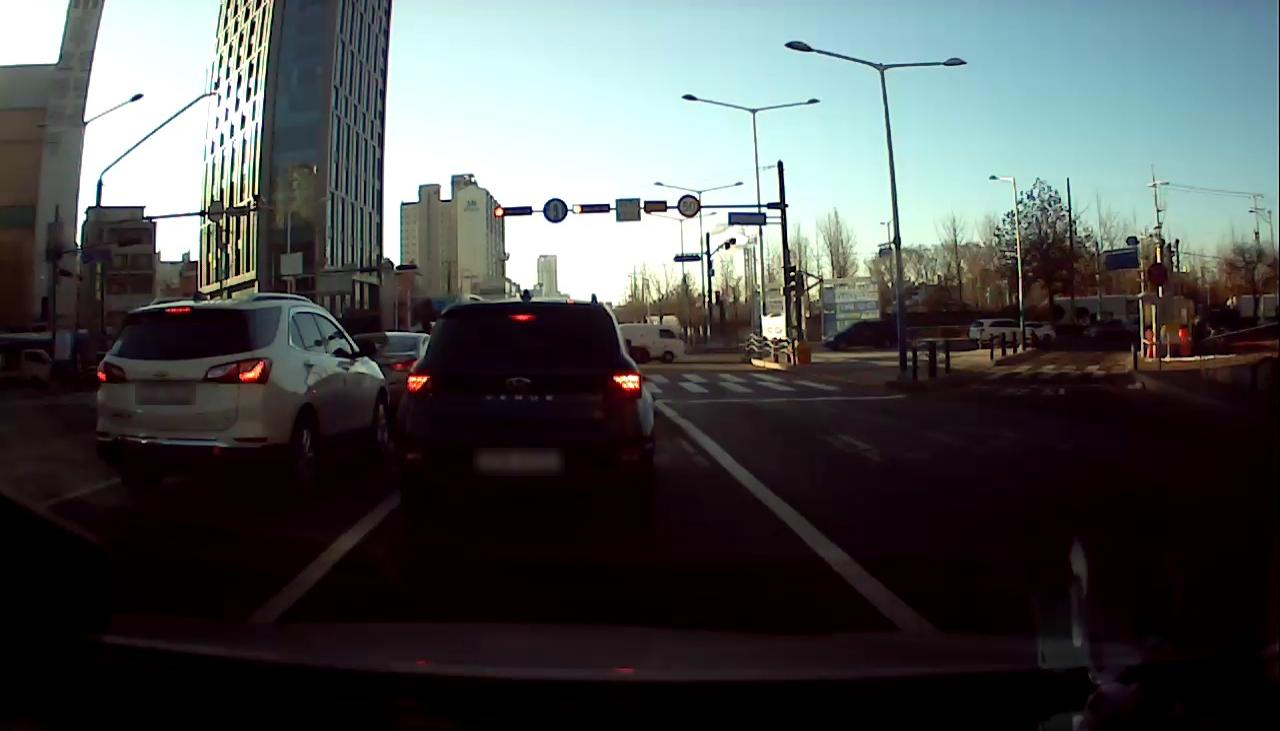Red Light: (493, 205, 505, 217), (572, 202, 582, 215)
